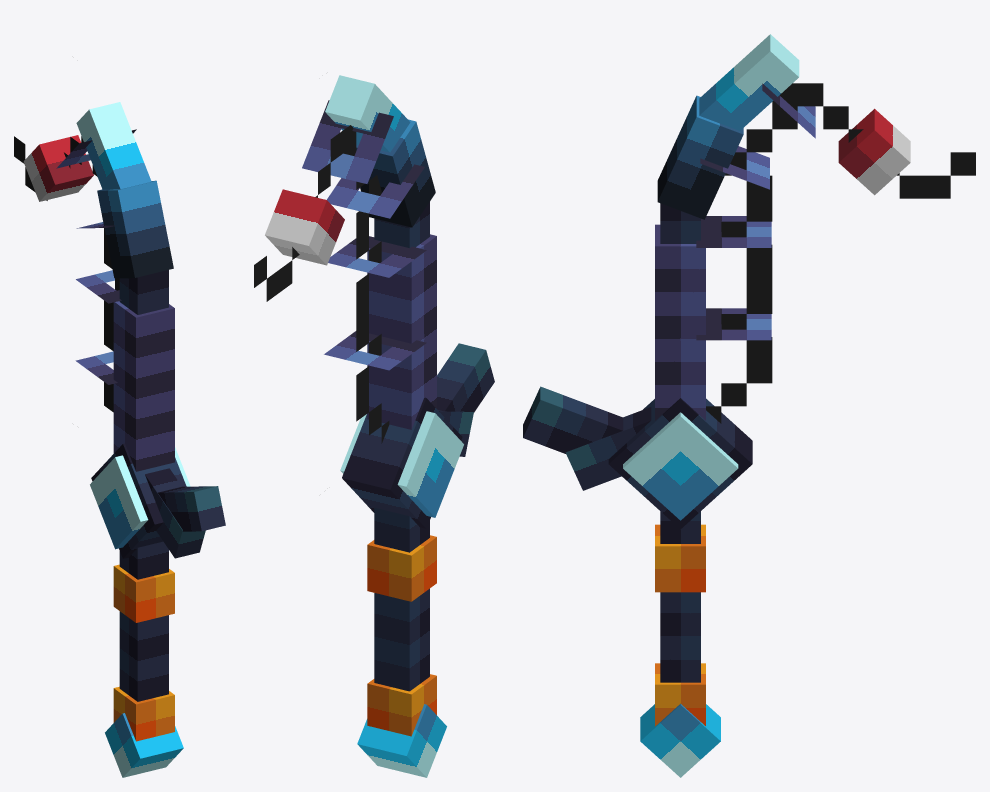
File: explorer-rod.gltf
3 renders of one model, left to right at view 1: azimuth 30°, elevation 25°; view 2: azimuth 150°, elevation 25°; view 3: azimuth 270°, elevation 25°, orthographic. The views are drawn at different scales.
Parts seen in each view (by area): view 1: cube (×18); view 2: cube (×19); view 3: cube (×19).
Boxes of the visible parts, x1,y1,x2,y2 form: cube (×18): [14, 102, 225, 777]; cube (×19): [254, 75, 494, 777]; cube (×19): [523, 34, 975, 777].
Size of the model in its own units: 0.0938 by 1.02 by 0.5559.
1 material, 1 textured.
